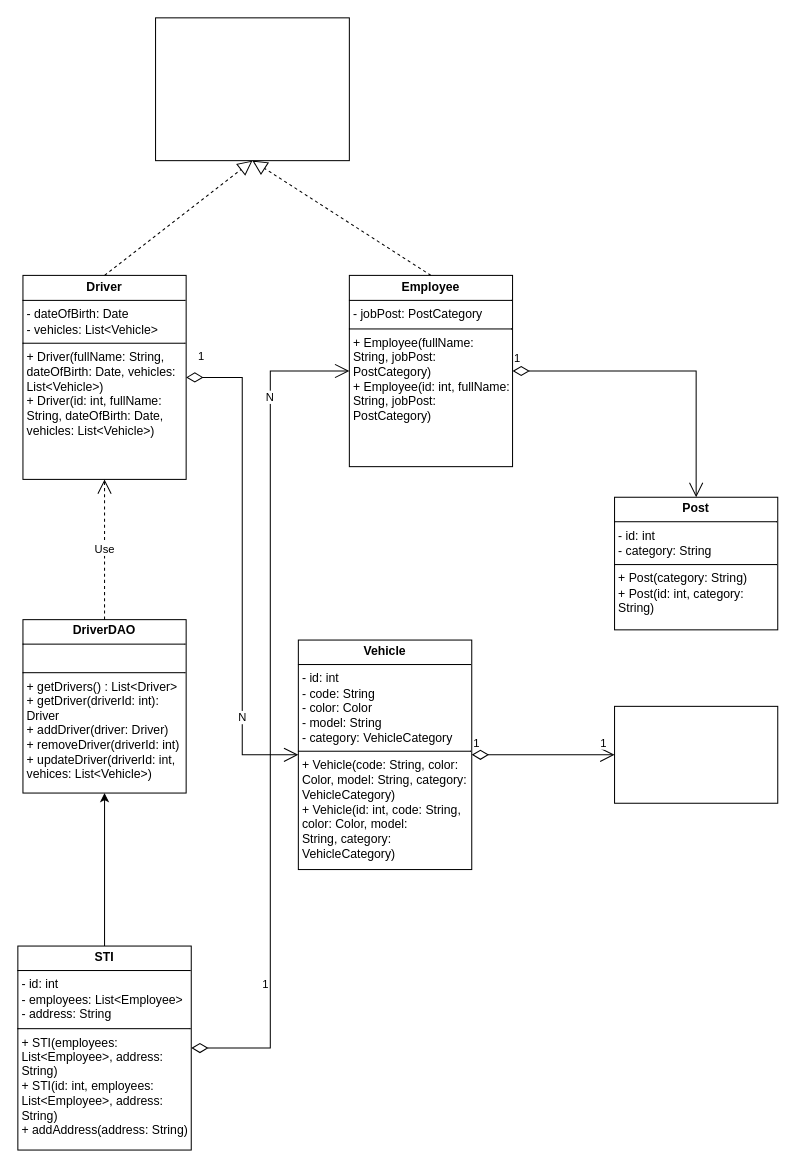
The diagram is 796 pixels wide and 1168 high, and some of its shapes have lost their labels. The centre of each missing label's shape, as x and y in pixels:
"<<Interface>> Person # id: int # fullName: String + getFullName(): String" goes at (252,89).
"VehicleCategory - id: int - category: String + getCategory(): String" goes at (696,754).
